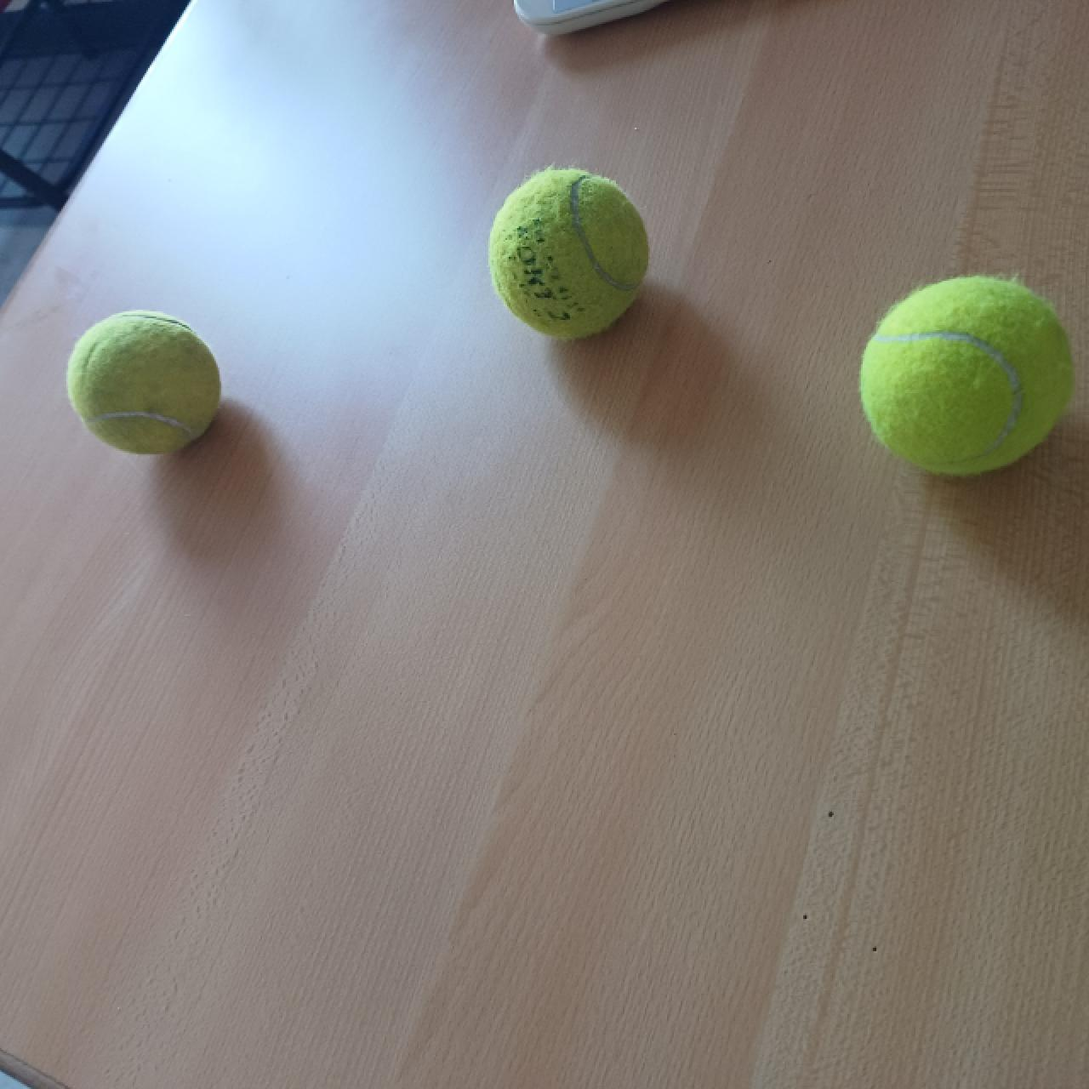tennis-ball: (858, 274, 1075, 477), (486, 165, 651, 342), (63, 306, 222, 455)
